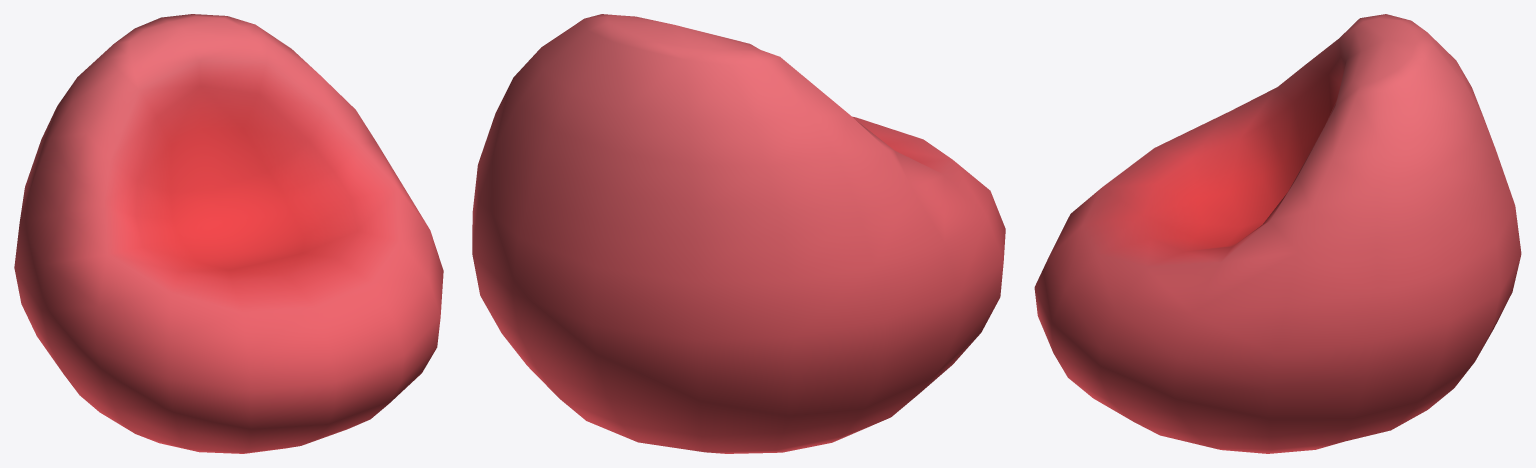
File: Pouf_001.fbx
3 renders of one model, left to right at view 1: azimuth 30°, elevation 25°; view 2: azimuth 150°, elevation 25°; view 3: azimuth 270°, elevation 25°, orthographic. The views are drawn at different scales.
Visible parts, largest first — view 1: Pouf_001; view 2: Pouf_001; view 3: Pouf_001.
Part boxes in pixels (box(x1,y1,x2,y2)): Pouf_001: box(14, 14, 443, 453); Pouf_001: box(472, 14, 1005, 453); Pouf_001: box(1034, 14, 1521, 453).
Size of the model in its own units: 1.04 by 0.9189 by 1.11.
